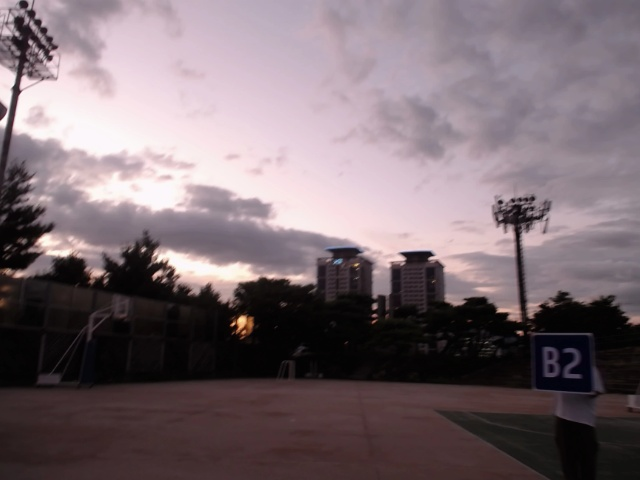delivery_b2: (530, 331, 593, 396)
